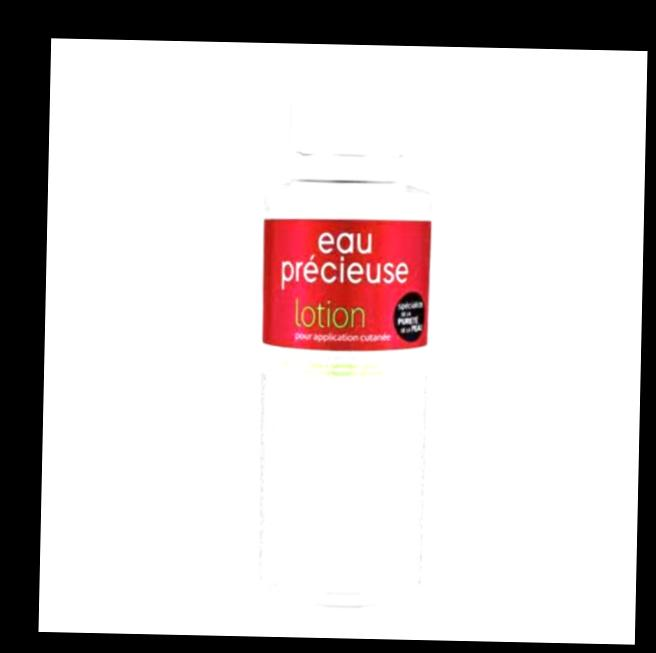cosmetic: (254, 86, 433, 587)
